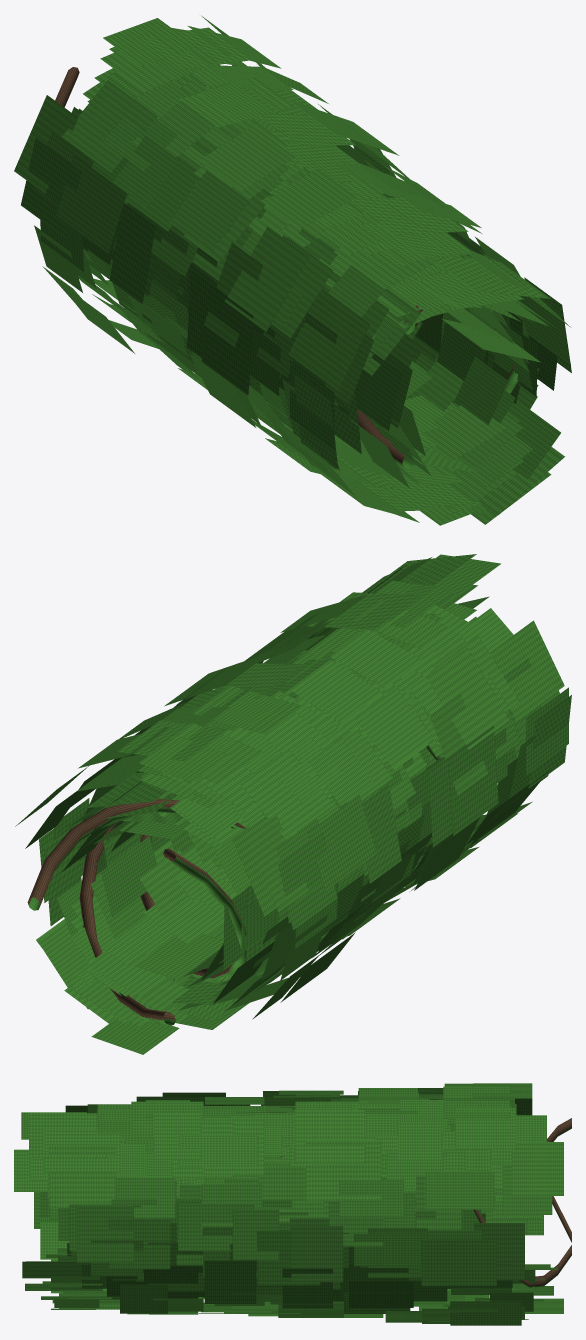
Rendered from veg_vine_ivy_01.obj.
3 views of the same model, one above another, from view 1: azimuth 30°, elevation 25°; view 2: azimuth 150°, elevation 25°; view 3: azimuth 270°, elevation 25° (orthographic). The views are drawn at different scales.
Visible parts, largest first — view 1: veg_vine_ivy_01; view 2: veg_vine_ivy_01; view 3: veg_vine_ivy_01.
Boxes of the visible parts, box(x1,y1,x2,y2) form: veg_vine_ivy_01: box(14, 15, 571, 525); veg_vine_ivy_01: box(15, 554, 571, 1054); veg_vine_ivy_01: box(14, 1083, 571, 1325).
Bounding box in the file's own units: 0.7677 × 0.7716 × 1.8.
1 material, 1 textured.
